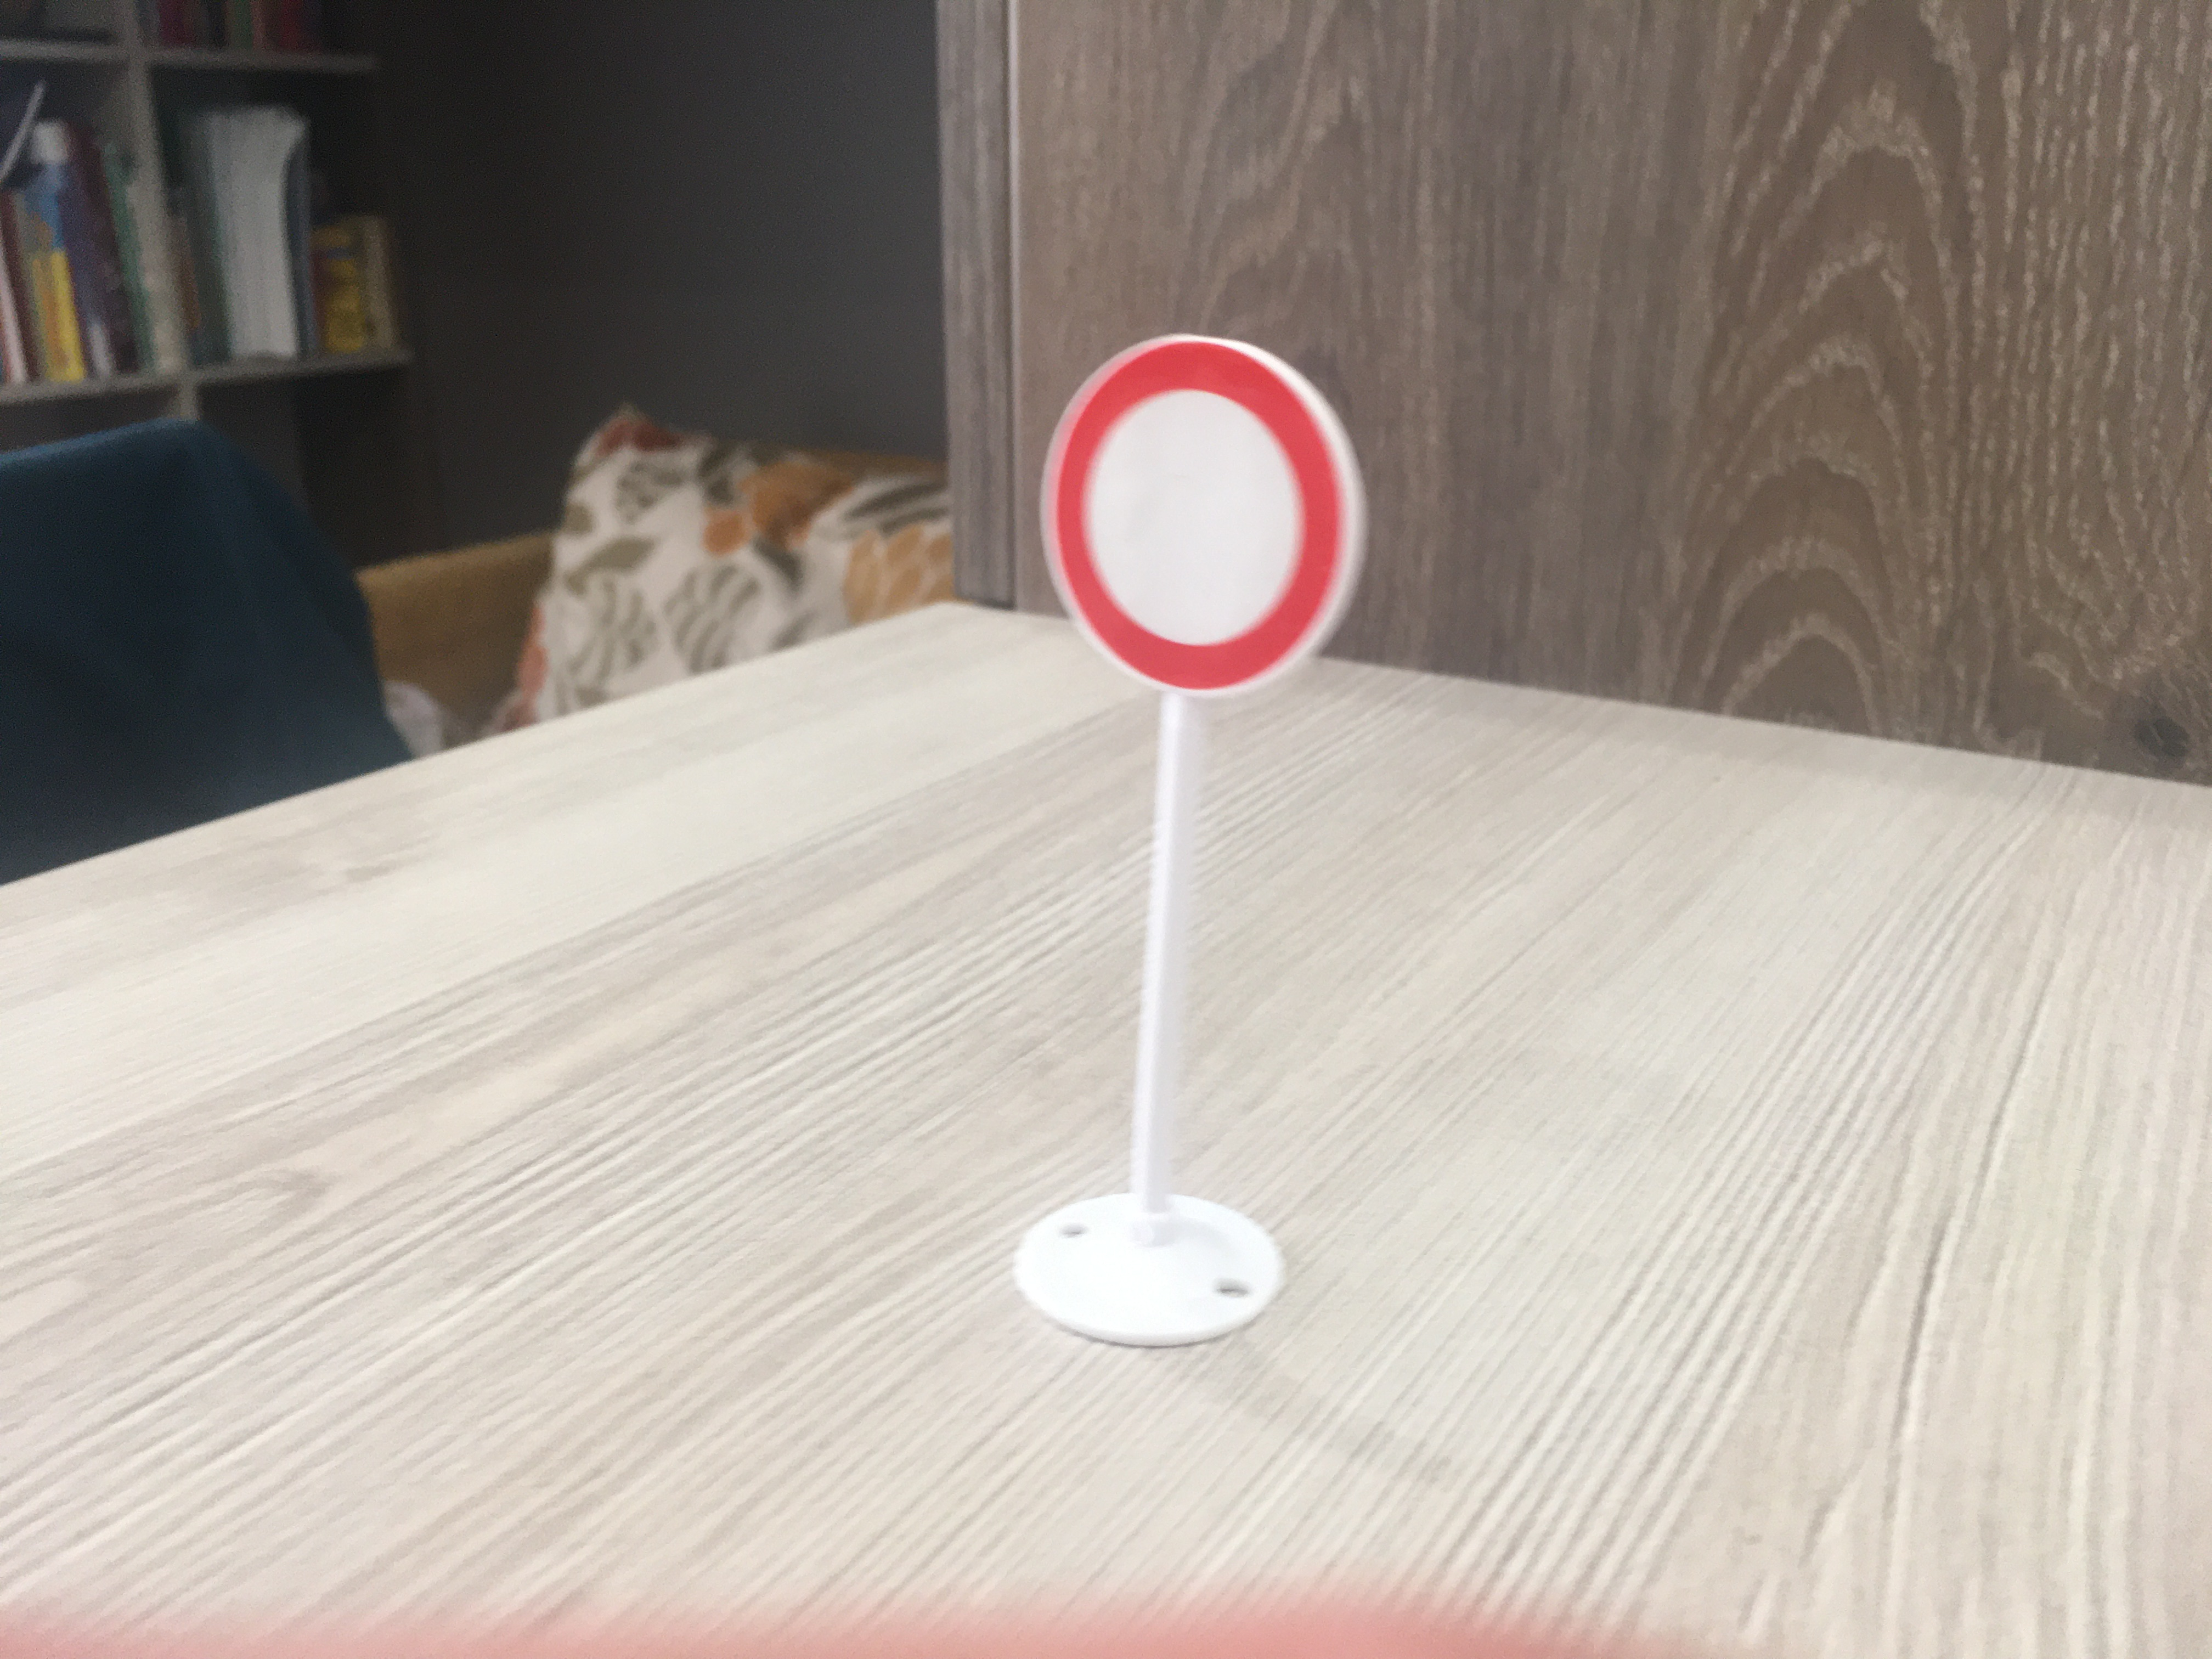noDrive: (1055, 336, 1364, 709)
